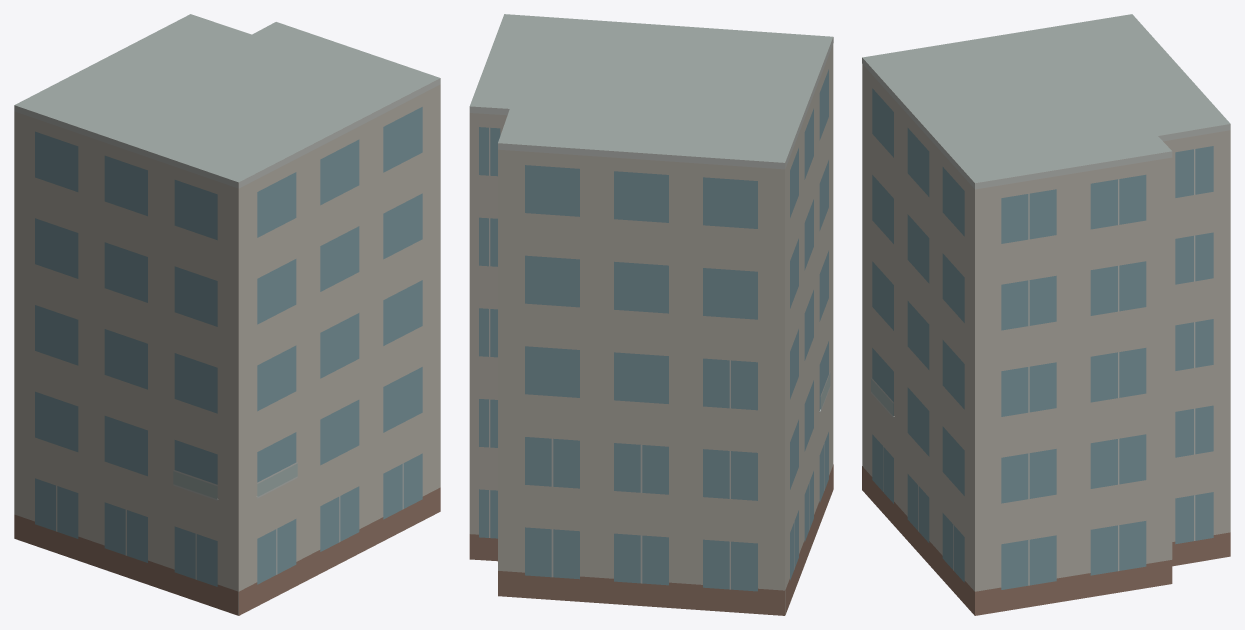
Rendered from survey-upis-32854699.glb.
3 views of the same model, side by side, from view 1: azimuth 30°, elevation 25°; view 2: azimuth 150°, elevation 25°; view 3: azimuth 270°, elevation 25° (orthographic). The views are drawn at different scales.
Visible parts, largest first — view 1: survey-upis-32854699.tmp; view 2: survey-upis-32854699.tmp; view 3: survey-upis-32854699.tmp.
Part boxes in pixels (left/top/right/bottom): survey-upis-32854699.tmp: left=14, top=14, right=440, bottom=615; survey-upis-32854699.tmp: left=469, top=14, right=833, bottom=615; survey-upis-32854699.tmp: left=862, top=14, right=1230, bottom=615.
Size of the model in its own units: 14.23 by 16.95 by 13.1.
